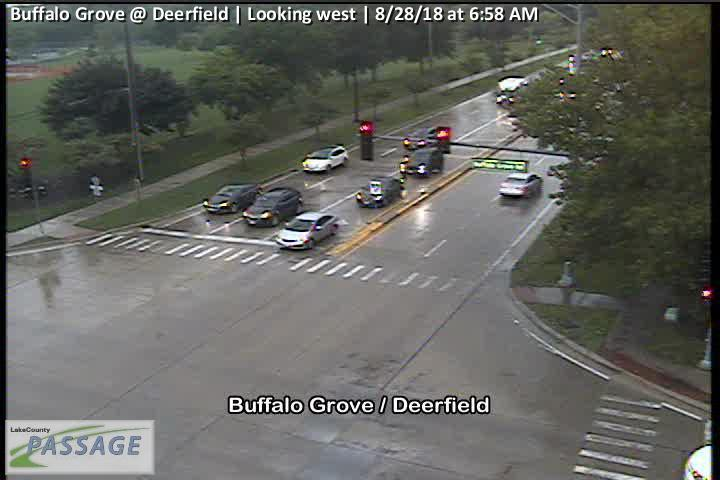SUV: (242, 187, 304, 228), (399, 146, 444, 178)
Sedan: (274, 211, 339, 251), (202, 183, 261, 215), (355, 175, 405, 209), (302, 144, 348, 173), (497, 171, 543, 199)
